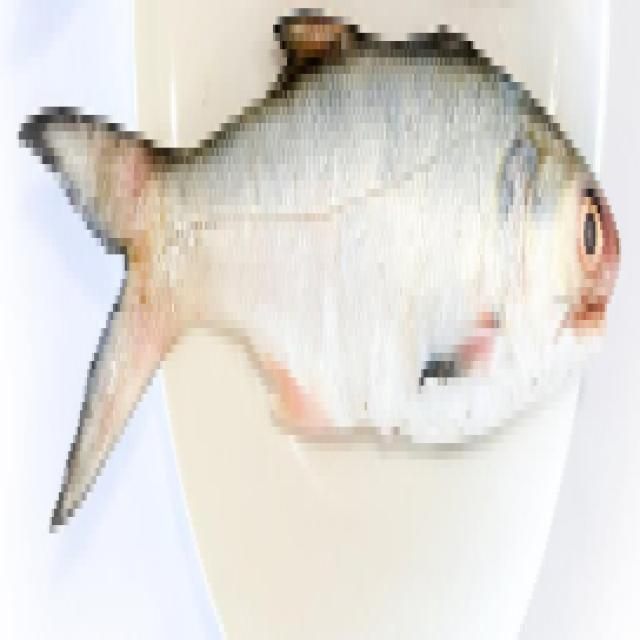Fourfinger-Threadfin: (14, 0, 630, 532)
